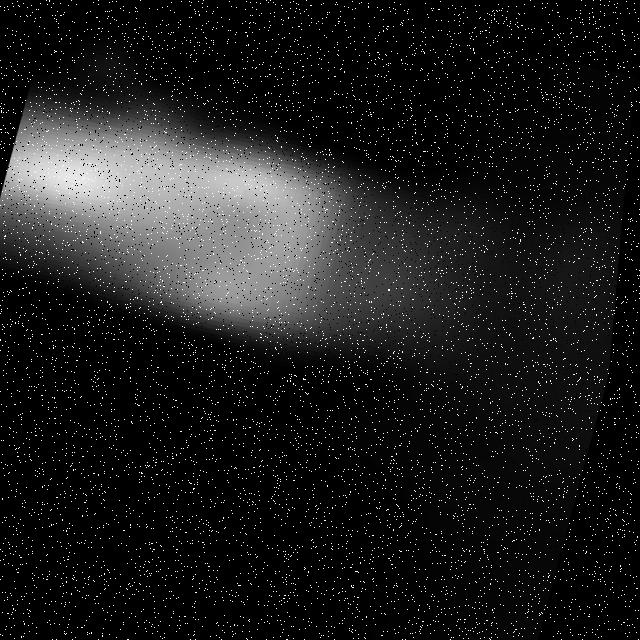person: (1, 44, 522, 419)
